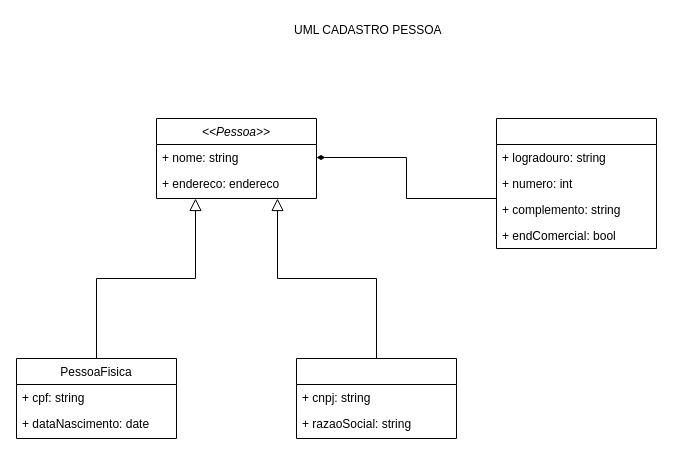
The diagram is 673 pixels wide and 455 high, and some of its shapes have lost their labels. Each missing label, with the box of its shape:
Endereco: (496, 118, 656, 248)
PessoaJuridica: (296, 358, 456, 438)
